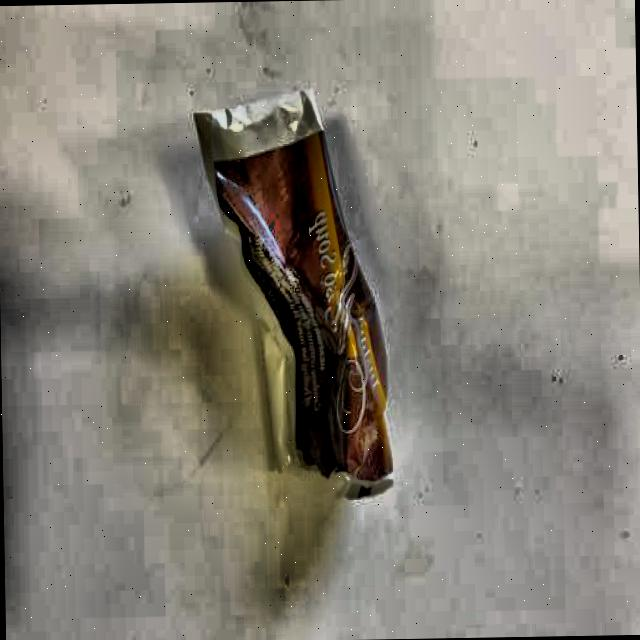trash: (196, 88, 408, 502)
